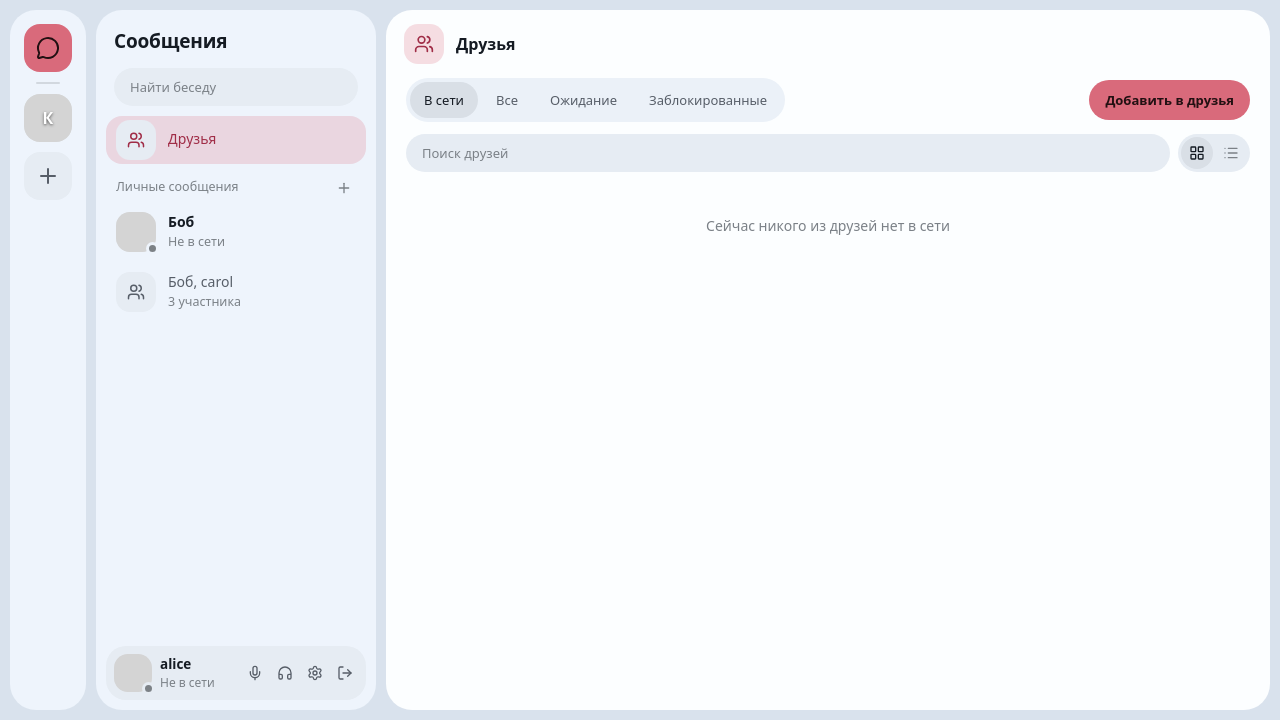
Test: server rail › creates a server named in the interface language and opens it
Click the button named "Добавить сервер" at {"x": 48, "y": 176}, box [24,152,72,200]
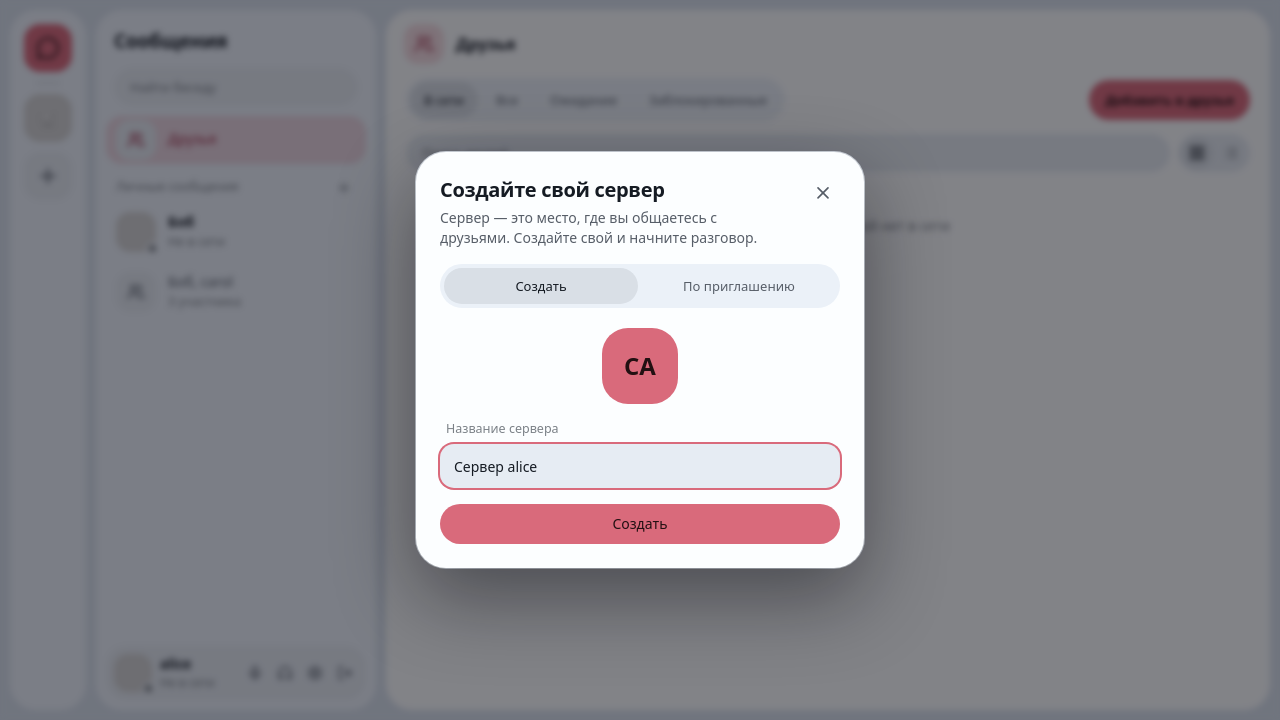
expect the field labelled "Название сервера" holds "Сервер alice": met
Replace the text in the field labelled "Название сервера" with "Котики" at {"x": 640, "y": 466}, box [440,444,840,488]
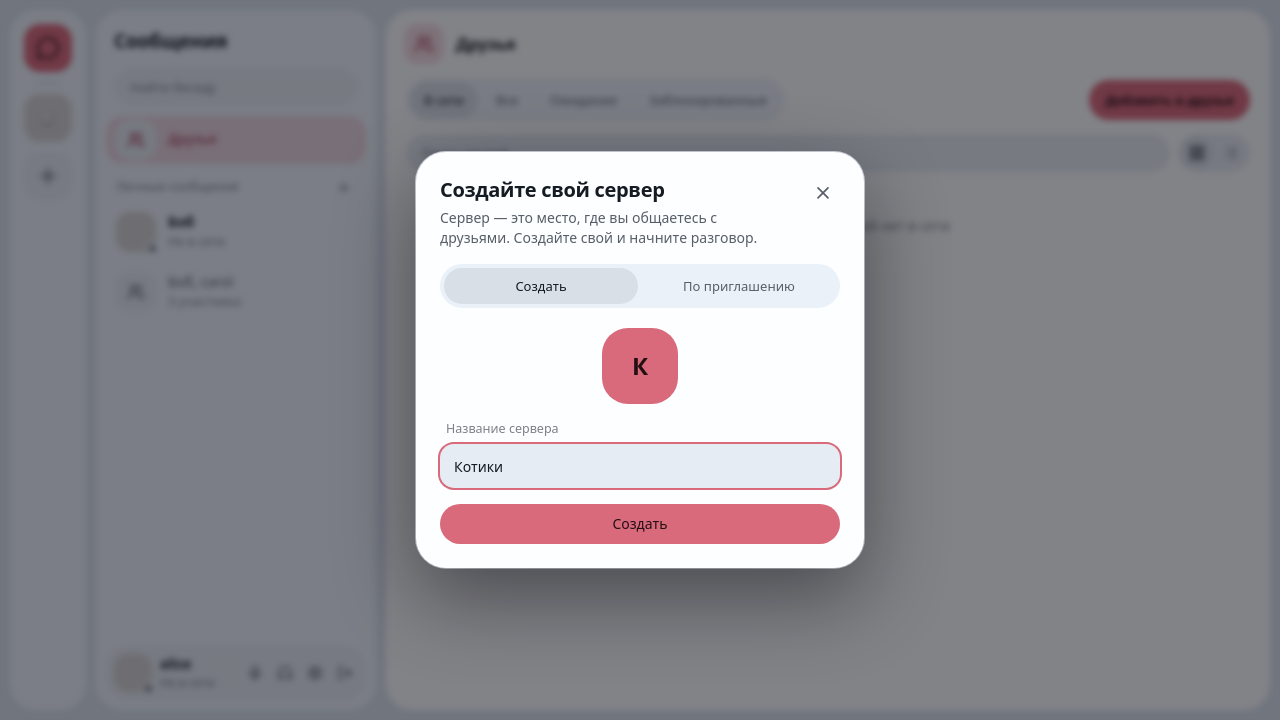
Click the button "Создать" at {"x": 640, "y": 524}, box [440,504,840,544]
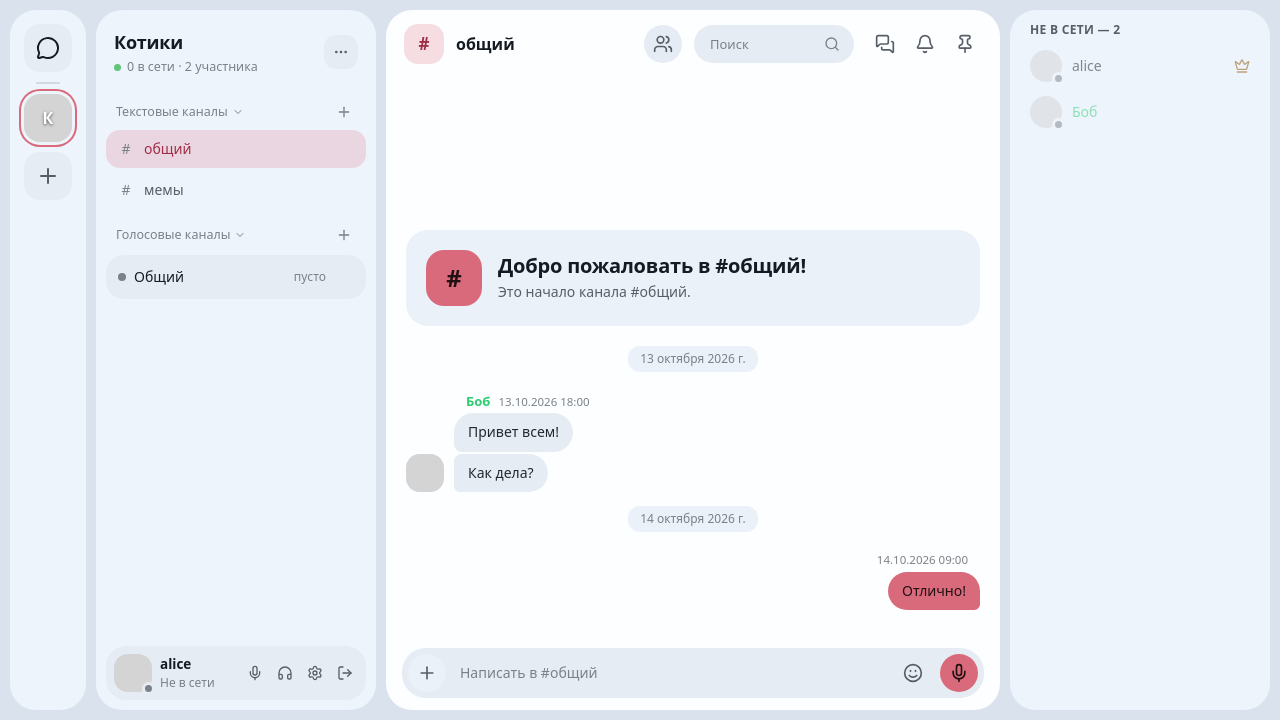
expect the dialog is gone: met
